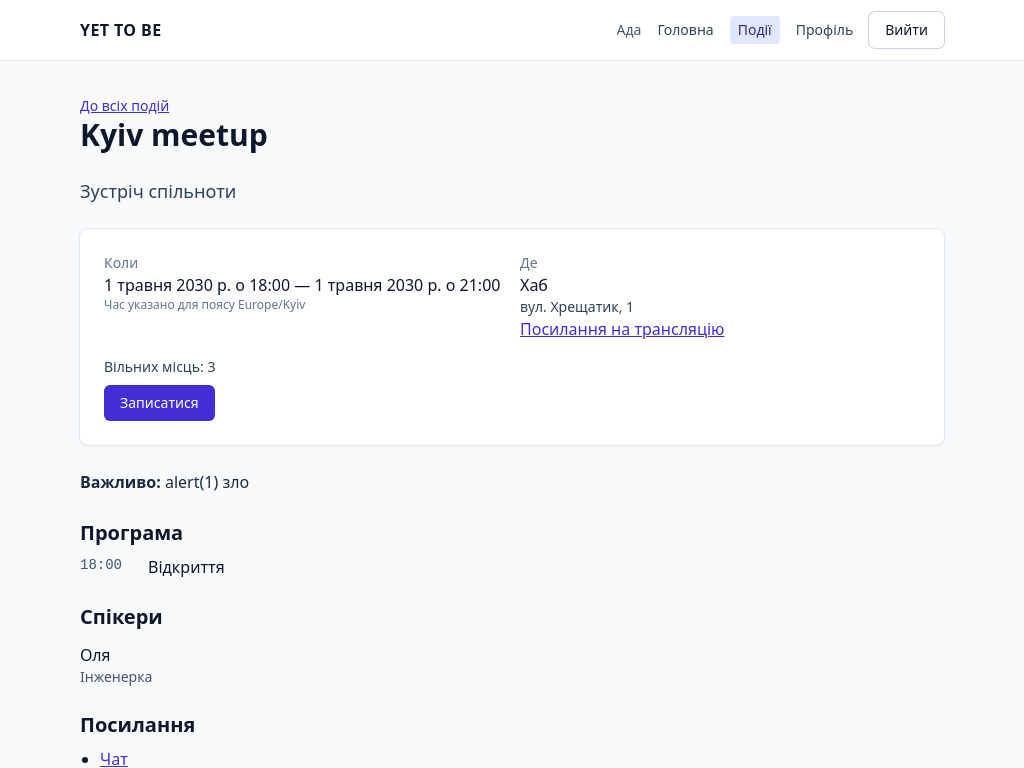
it: публічні події › показує зрозумілу помилку, коли місць уже немає
The width and height of the screenshot is (1024, 768).
Click the button "Записатися" at (159, 403), box [104,385,215,421]
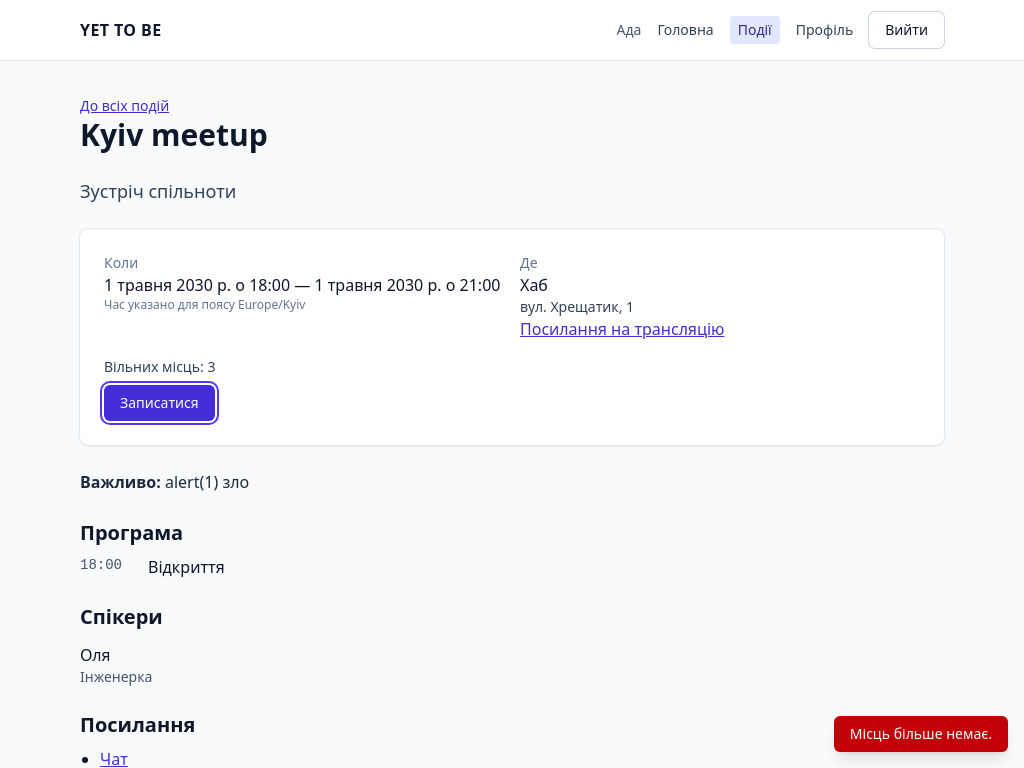
Result: the text "Місць більше немає." is shown at [834,716,1008,752]
